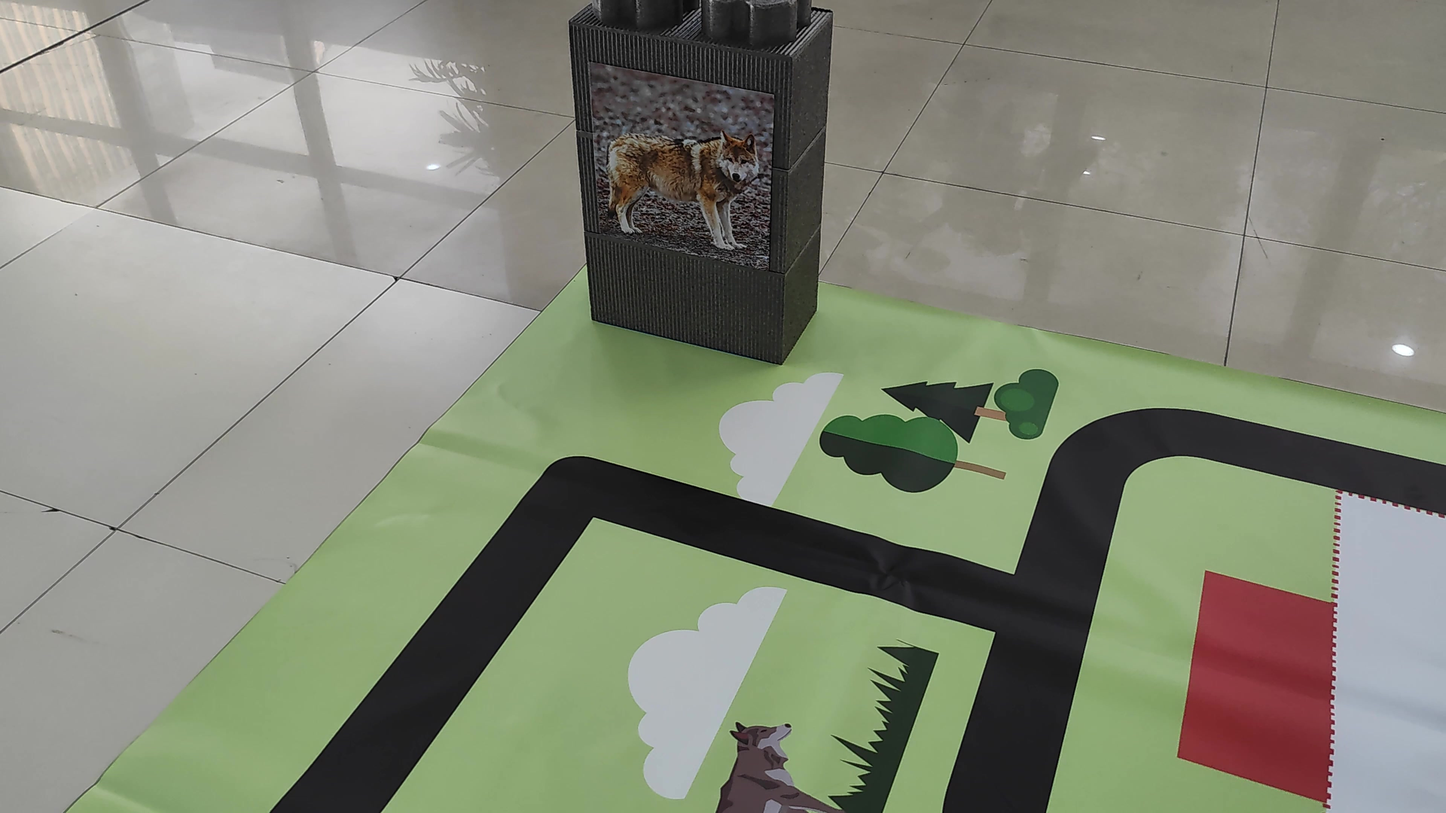wolf: (600, 102, 775, 271)
